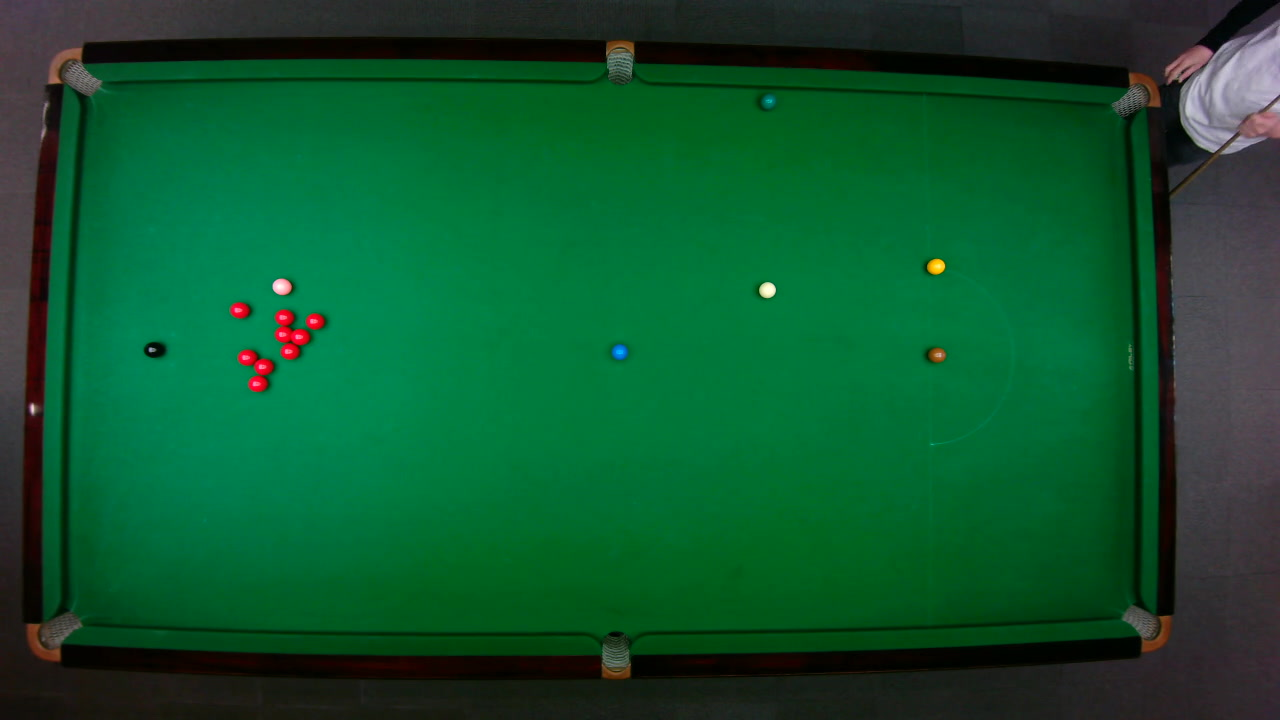bag: (24, 609, 83, 662), (45, 46, 102, 96), (1119, 603, 1171, 652), (1108, 71, 1160, 118), (600, 629, 630, 680), (605, 38, 633, 85)
black: (142, 340, 164, 358)
blue: (610, 342, 628, 360)
brown: (926, 346, 946, 362)
green: (759, 92, 776, 110)
pink: (270, 276, 292, 295)
red: (288, 326, 310, 346), (235, 347, 258, 366), (252, 356, 274, 375), (304, 311, 325, 330), (273, 307, 294, 326), (228, 300, 250, 318), (279, 342, 300, 360), (246, 375, 268, 392), (273, 325, 293, 343)
white: (757, 280, 777, 298)
yellow: (925, 257, 946, 274)
zone: (926, 266, 1013, 445)
